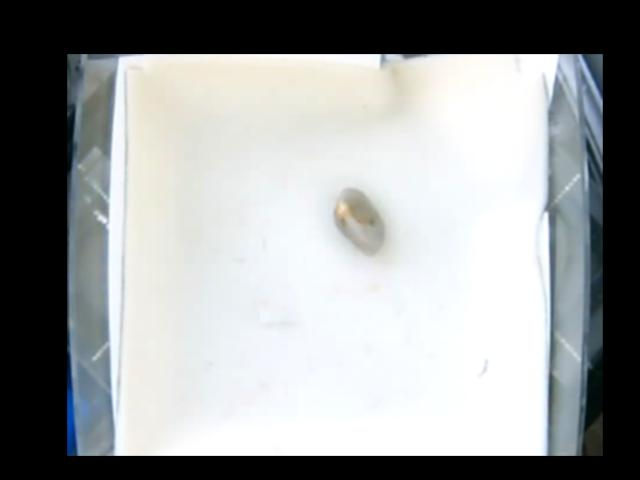Pebble: (332, 188, 386, 259)
